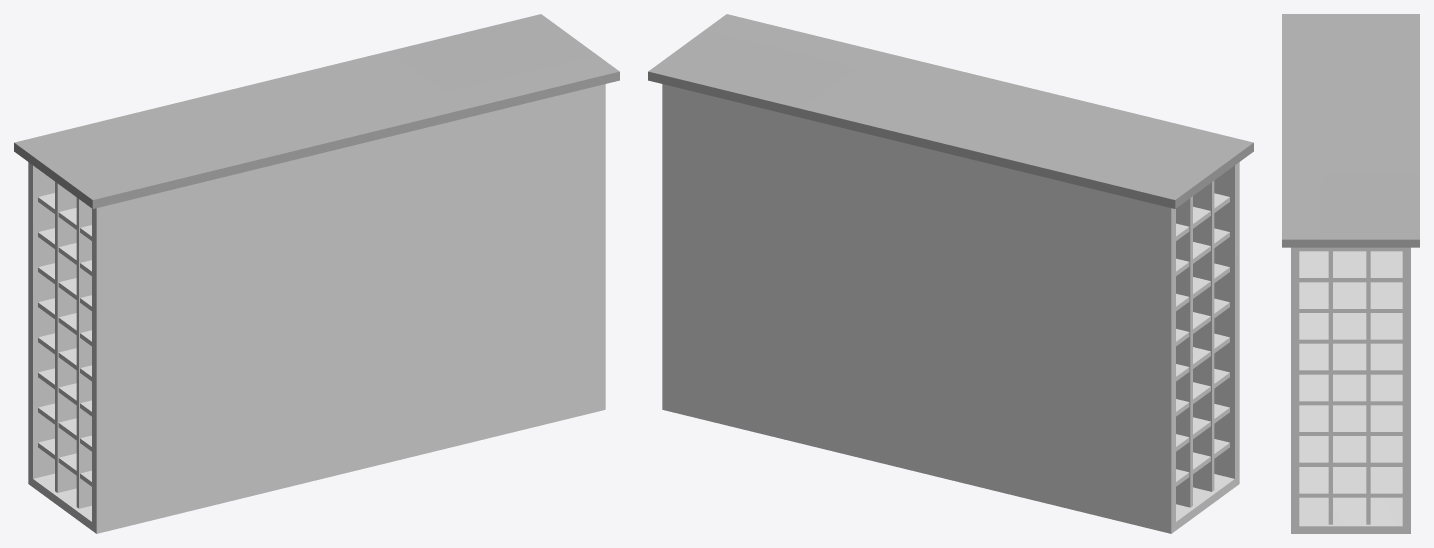
The model's file is kitchen_item_001.glb.
3 views of the same model, side by side, from view 1: azimuth 30°, elevation 25°; view 2: azimuth 150°, elevation 25°; view 3: azimuth 270°, elevation 25° (orthographic). The views are drawn at different scales.
Parts seen in each view (by area): view 1: kitchen_item_001; view 2: kitchen_item_001; view 3: kitchen_item_001.
Boxes of the visible parts, bbox=[...] form: kitchen_item_001: bbox=[14, 14, 619, 533]; kitchen_item_001: bbox=[648, 14, 1253, 533]; kitchen_item_001: bbox=[1282, 14, 1419, 533].
Size of the model in its own units: 1.59 by 0.9768 by 0.4096.
1 material, 1 textured.
